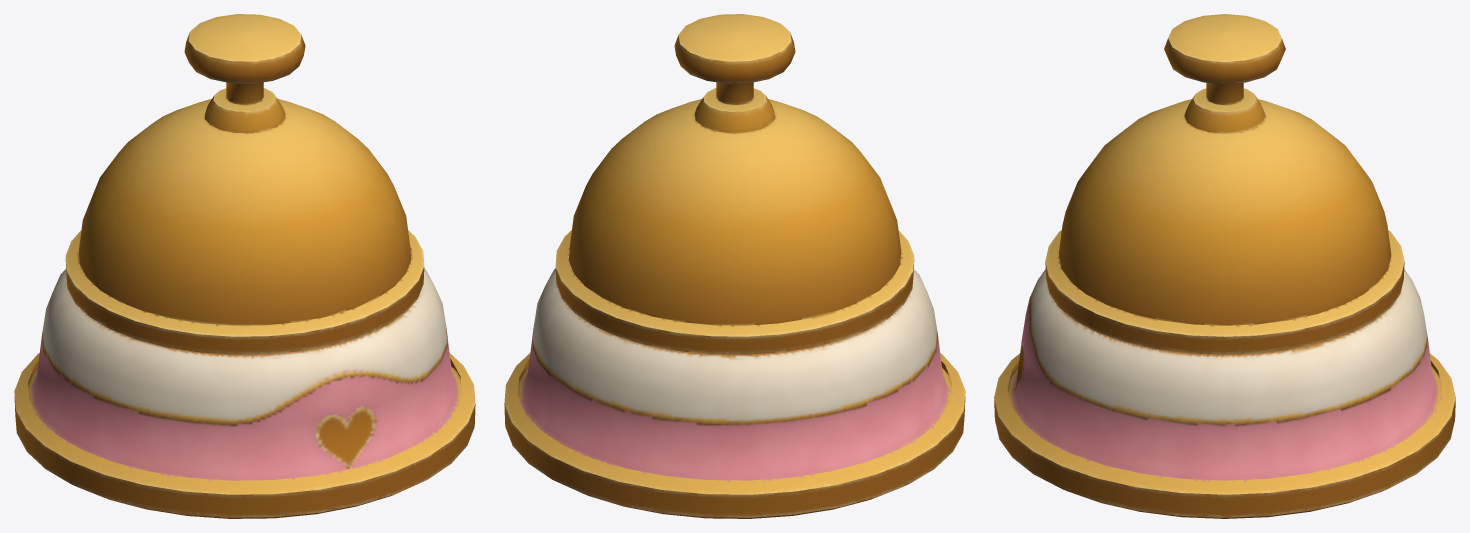
Rendered from spa_bell.glb.
The picture shows the model from 3 angles, left to right: view 1: azimuth 30°, elevation 25°; view 2: azimuth 150°, elevation 25°; view 3: azimuth 270°, elevation 25°; orthographic projection.
Visible parts, largest first — view 1: spa_bell, spa_bell_striker; view 2: spa_bell, spa_bell_striker; view 3: spa_bell, spa_bell_striker.
Boxes of the visible parts, <box> form: spa_bell: <box>14,88,475,518</box>; spa_bell_striker: <box>184,14,305,104</box>; spa_bell: <box>504,88,965,518</box>; spa_bell_striker: <box>674,14,795,104</box>; spa_bell: <box>994,88,1455,518</box>; spa_bell_striker: <box>1164,14,1285,104</box>.
Size of the model in its own units: 0.1136 by 0.1067 by 0.1136.
1 material, 1 textured.
